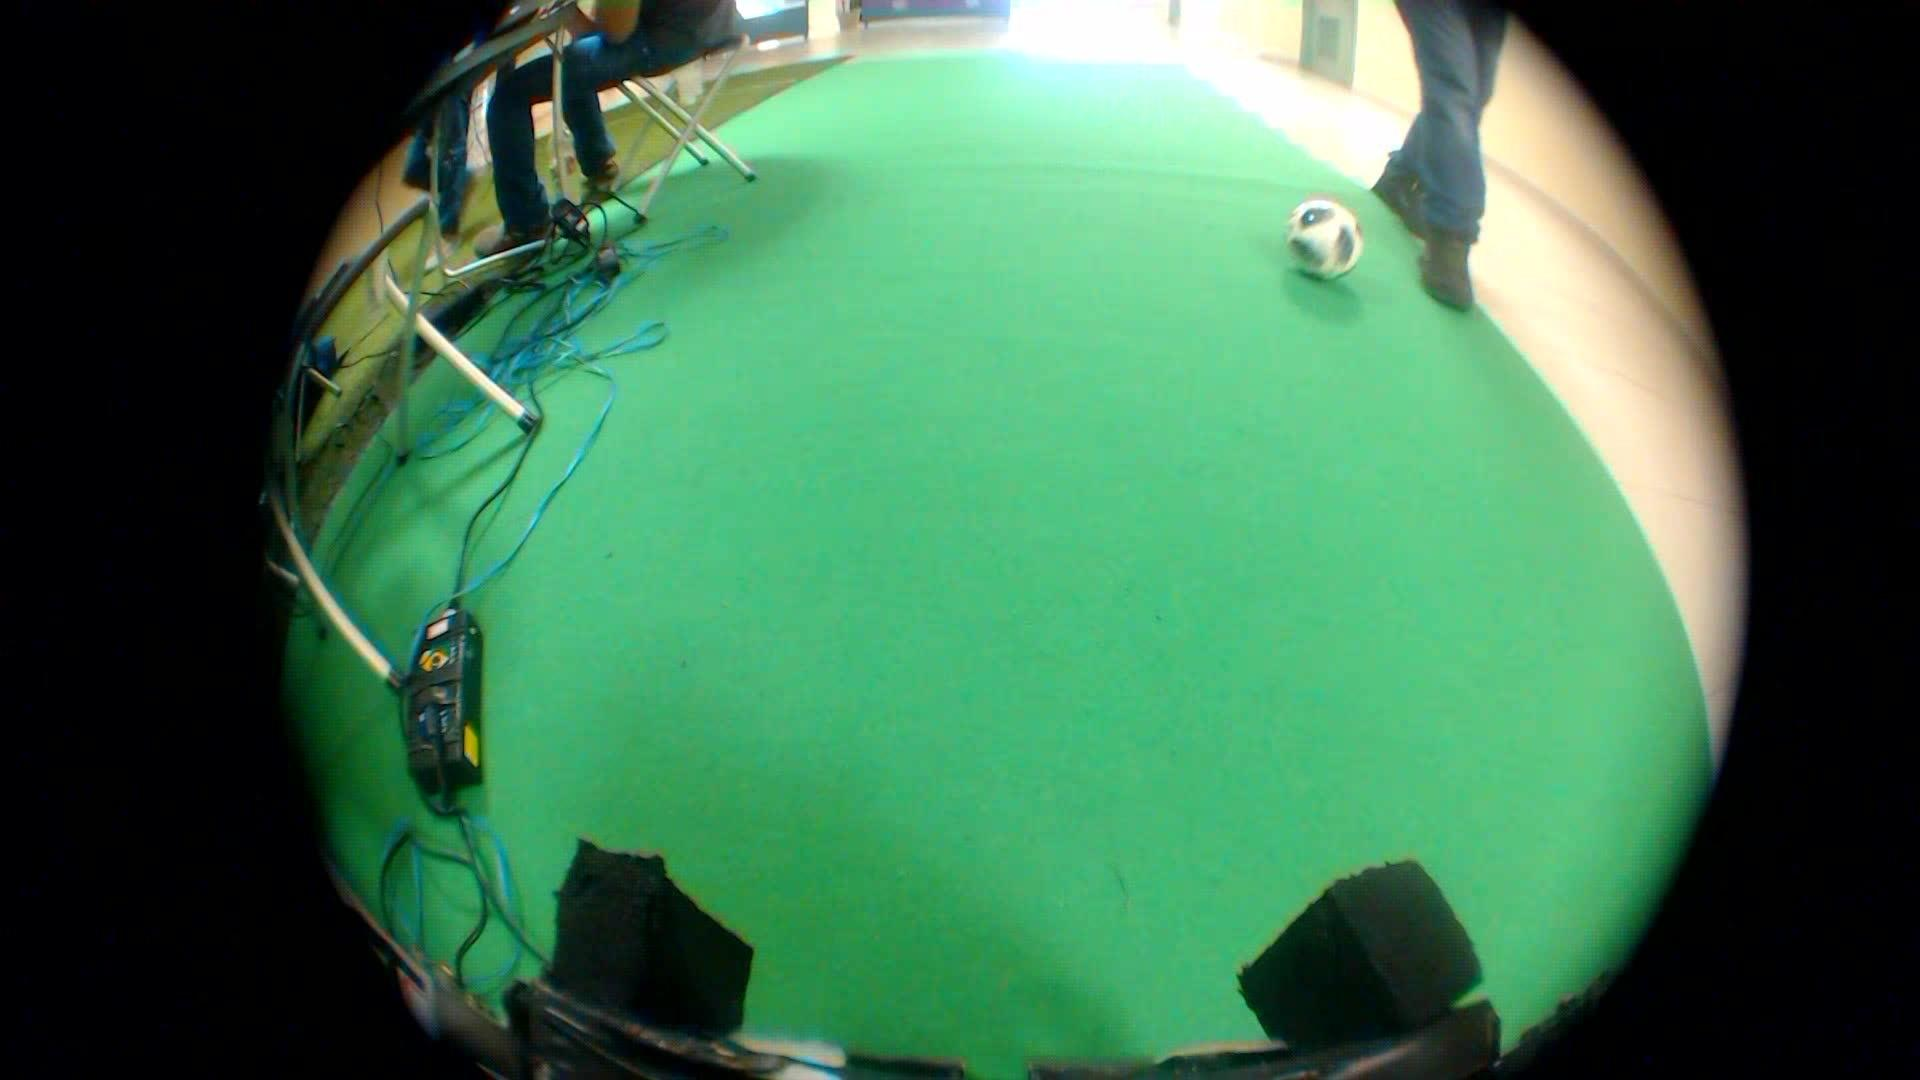ball: (1278, 189, 1366, 291)
